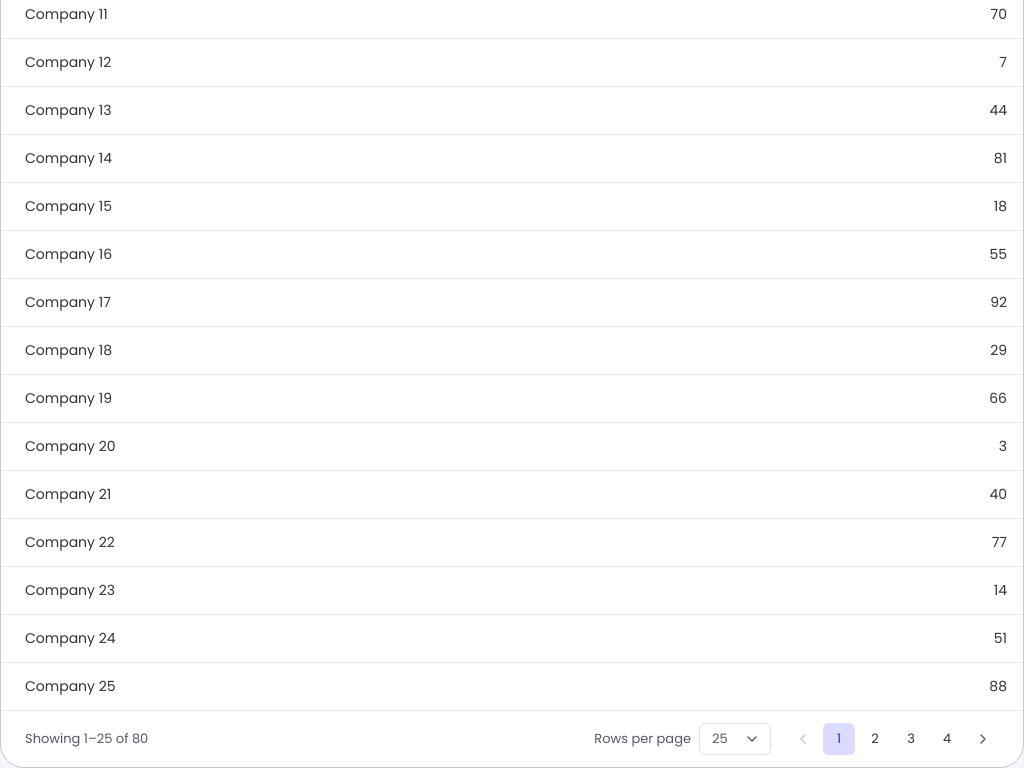
DataTable (T1–T3, T6) › pages 25 at a time and shows "Showing 1–25 of 80"
(page scrolled)
Expected: the text "Showing 1–25 of 80" is shown, top-left (25, 729), bottom-right (148, 749)
Click the button named "Page 2". click: (875, 739)
box: top-left (859, 723), bottom-right (891, 755)
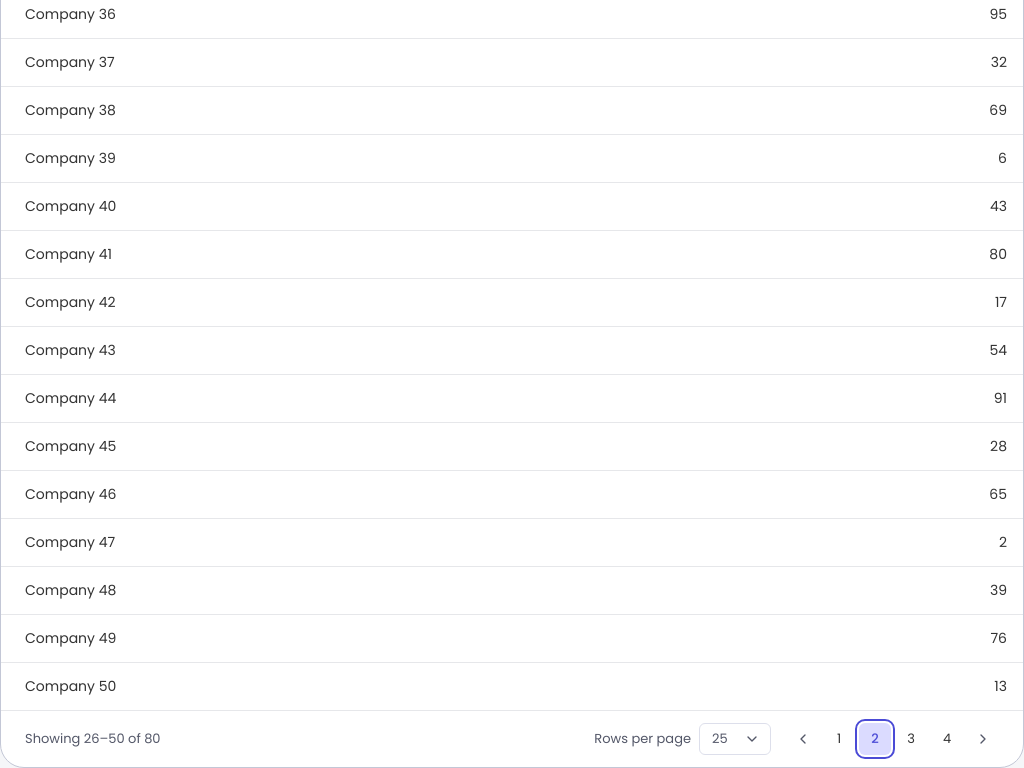
Result: the text "Showing 26–50 of 80" is shown at top-left (25, 729), bottom-right (160, 749)
Select "100" in the dropdown labelled "Rows per page". click: (735, 739)
box: top-left (699, 723), bottom-right (771, 755)
(page scrolled)
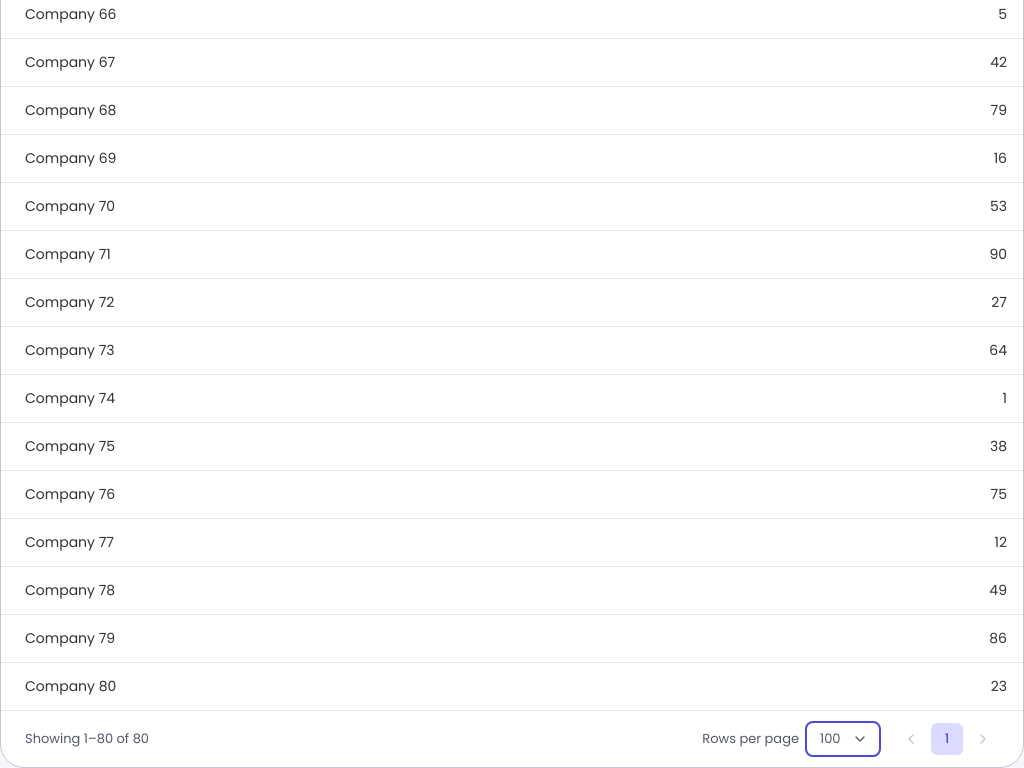
Result: the text "Showing 1–80 of 80" is shown at top-left (25, 729), bottom-right (149, 749)
